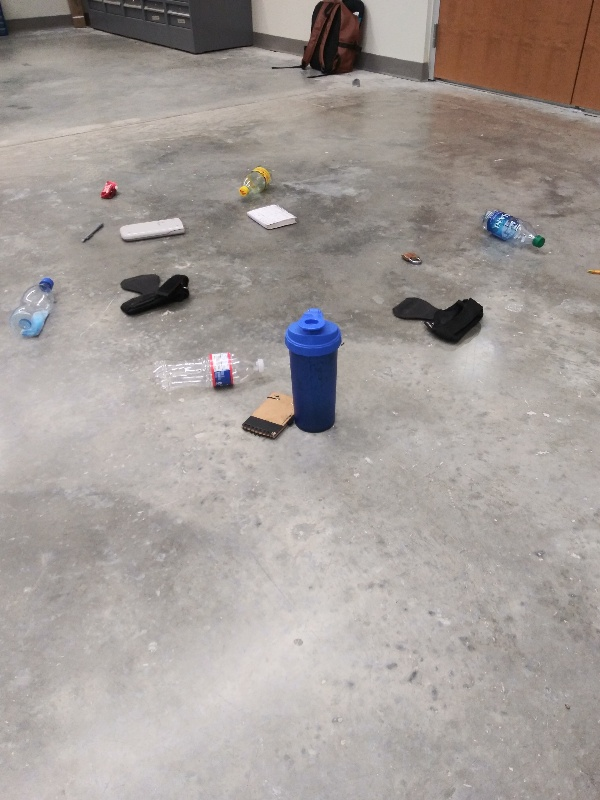bottle: (150, 349, 268, 399), (476, 205, 548, 250), (10, 272, 58, 339), (233, 161, 275, 201)
